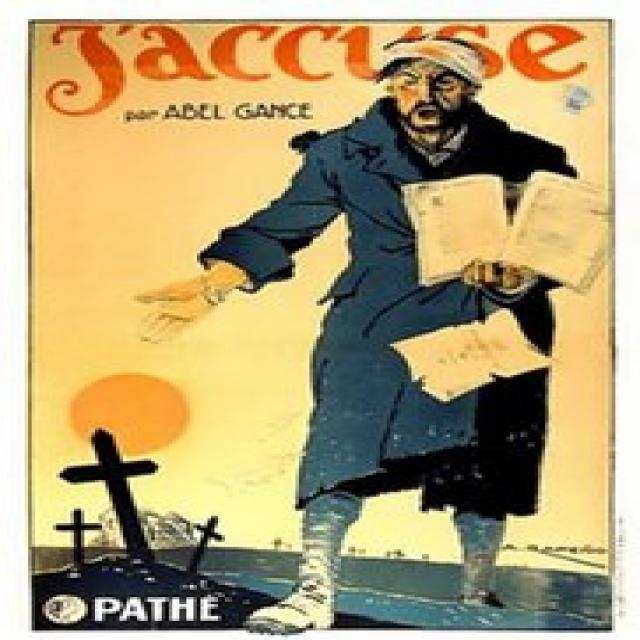movie-judul: (34, 24, 606, 111)
picture: (139, 50, 601, 571)
